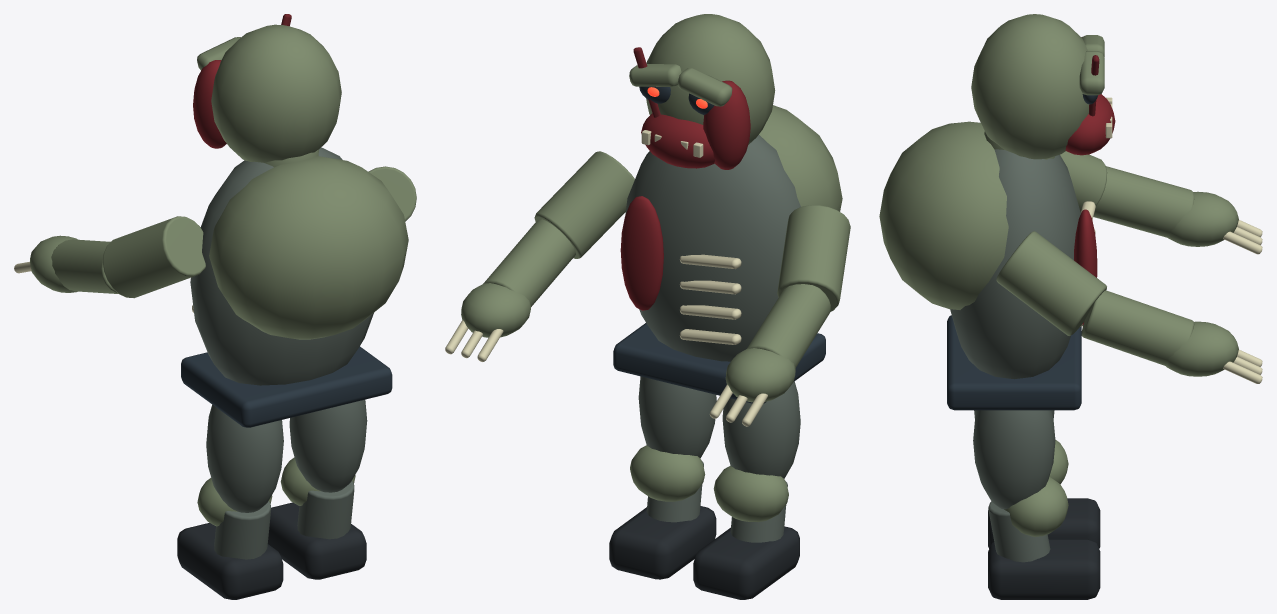
File: 10_zombie_walker.glb
3 renders of one model, left to right at view 1: azimuth 30°, elevation 25°; view 2: azimuth 150°, elevation 25°; view 3: azimuth 270°, elevation 25°, orthographic.
Visible parts, largest first — view 1: Infected back, Torso, Upper arm, Thigh, Eye socket, Thigh.001, Boot, Boot.001, Broken jaw, Upper arm.001, Kneecap, Kneecap.001; view 2: Torso, Infected back, Upper arm.001, Upper arm, Broken jaw, Thigh, Thigh.001, Eye socket, Boot, Boot.001, Kneecap, Kneecap.001 (+3 smaller); view 3: Infected back, Upper arm.001, Torso, Upper arm, Thigh.001, Eye socket, Boot.001, Broken jaw, Kneecap.001, Boot, Claw, Claw.003 (+1 smaller).
Part boxes in pixels (bbox=[...]): Infected back: bbox=[197, 24, 408, 339]; Torso: bbox=[190, 147, 373, 385]; Upper arm: bbox=[30, 216, 205, 298]; Thigh: bbox=[206, 404, 283, 559]; Eye socket: bbox=[181, 346, 392, 427]; Thigh.001: bbox=[289, 399, 367, 539]; Boot: bbox=[177, 523, 283, 599]; Boot.001: bbox=[267, 502, 366, 579]; Broken jaw: bbox=[193, 60, 226, 148]; Upper arm.001: bbox=[368, 166, 416, 221]; Kneecap: bbox=[197, 478, 272, 526]; Kneecap.001: bbox=[280, 457, 355, 505]; Torso: bbox=[625, 135, 800, 361]; Infected back: bbox=[629, 14, 842, 211]; Upper arm.001: bbox=[461, 151, 634, 337]; Upper arm: bbox=[725, 205, 850, 402]; Broken jaw: bbox=[620, 80, 750, 310]; Thigh: bbox=[722, 381, 800, 542]; Thigh.001: bbox=[638, 376, 716, 522]; Eye socket: bbox=[613, 86, 825, 403]; Boot: bbox=[693, 526, 799, 599]; Boot.001: bbox=[609, 506, 716, 579]; Kneecap: bbox=[713, 465, 788, 522]; Kneecap.001: bbox=[630, 445, 705, 501]; Infected back: bbox=[879, 14, 1104, 309]; Upper arm.001: bbox=[996, 231, 1238, 376]; Torso: bbox=[950, 149, 1080, 379]; Upper arm: bbox=[1060, 151, 1238, 246]; Thigh.001: bbox=[973, 410, 1055, 562]; Eye socket: bbox=[947, 94, 1097, 410]; Boot.001: bbox=[988, 539, 1100, 599]; Broken jaw: bbox=[1065, 37, 1115, 324]; Kneecap.001: bbox=[1004, 477, 1068, 536]; Boot: bbox=[988, 498, 1100, 548]; Claw: bbox=[1223, 220, 1262, 254]; Claw.003: bbox=[1223, 349, 1262, 383].
Bounding box in the file's own units: 1 × 1.62 × 1.02.
